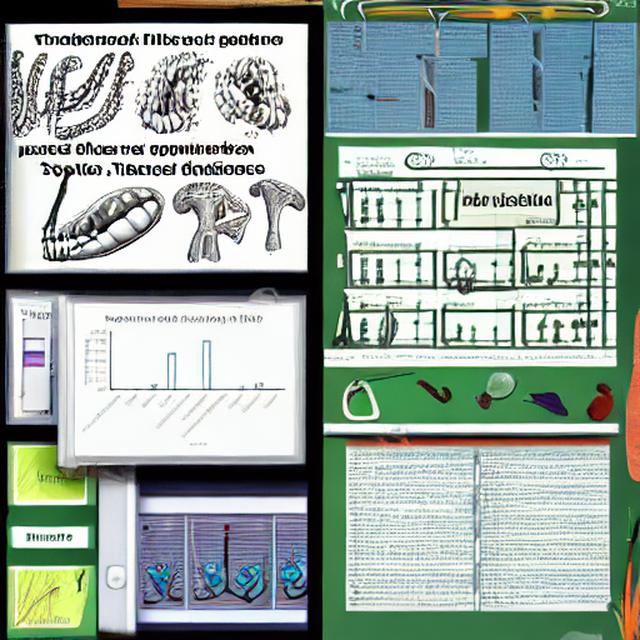Graph: (76, 308, 291, 453)
